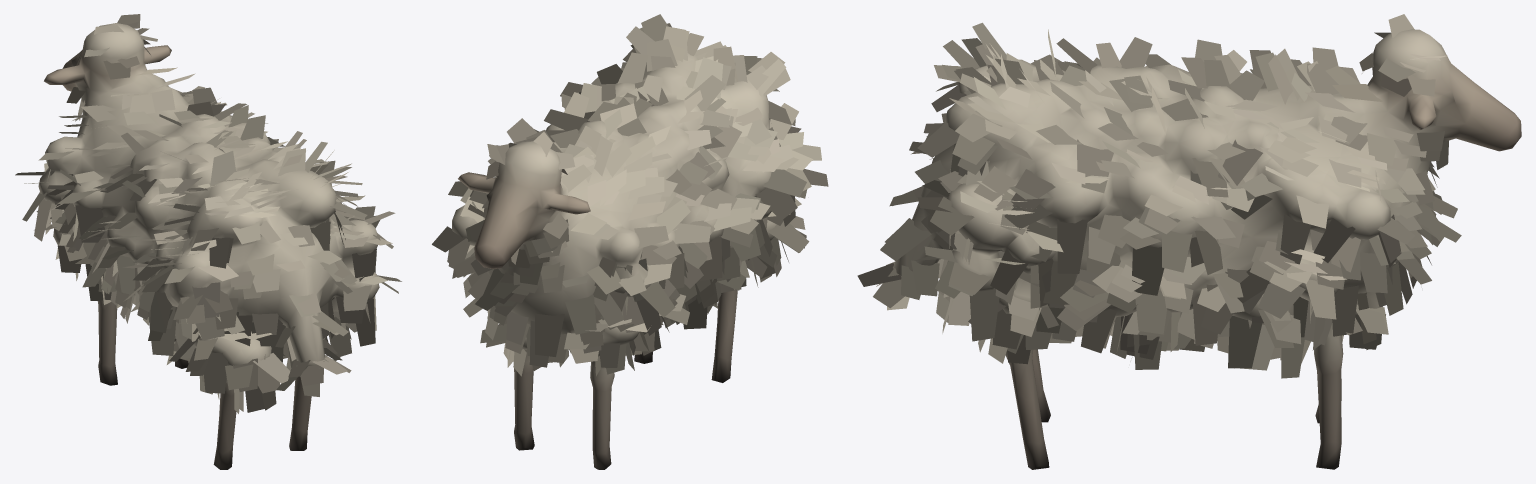
Rendered from animale_pecora_2.glb.
3 views of the same model, side by side, from view 1: azimuth 30°, elevation 25°; view 2: azimuth 150°, elevation 25°; view 3: azimuth 270°, elevation 25° (orthographic). The views are drawn at different scales.
Visible parts, largest first — view 1: animale_pecora_2; view 2: animale_pecora_2; view 3: animale_pecora_2.
Part boxes in pixels (x1,y1,x2,y2): animale_pecora_2: (15, 14, 401, 469); animale_pecora_2: (432, 14, 828, 469); animale_pecora_2: (857, 14, 1521, 469).
Size of the model in its own units: 0.7756 by 1.02 by 1.46.
